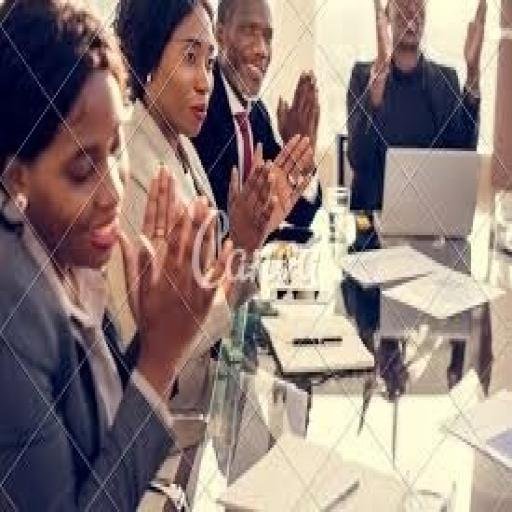clapping: (0, 0, 293, 493), (192, 0, 324, 241), (342, 0, 490, 213)
